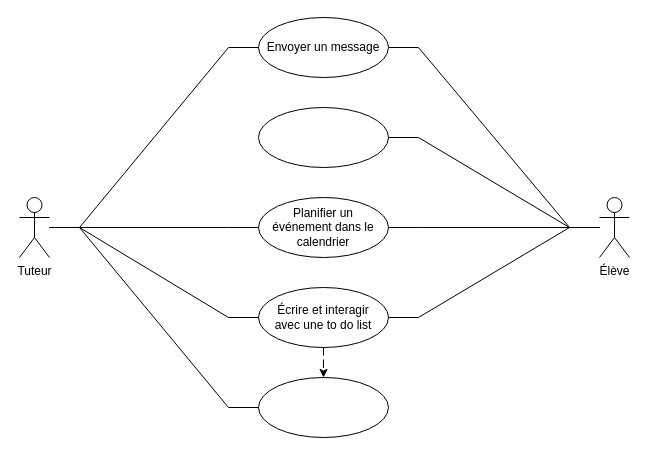
Image size: 647x455. Some labels were removed from this diagram. The shapes that lost their labels are listed below. From the top down, each one's box as (x1, y1, x2, y2) in pixels, then its label:
(258, 106, 388, 168): Épingler un message
(258, 376, 388, 438): Écrire une to do list pour l'élève
